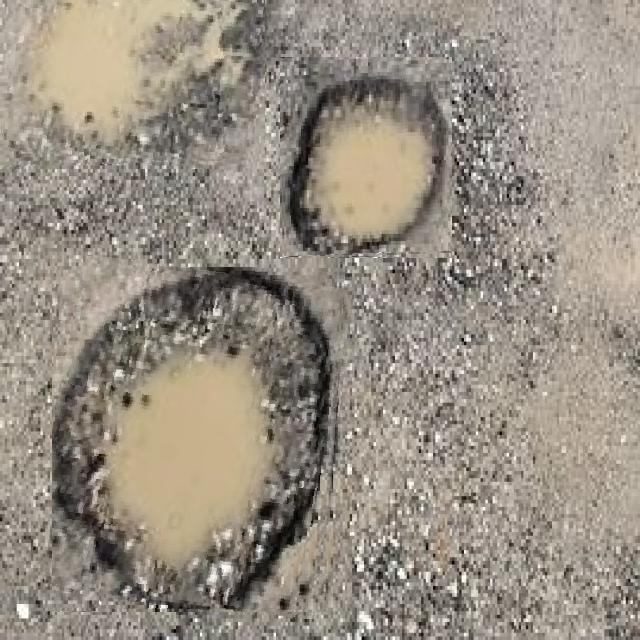Pothole: (52, 261, 345, 612), (0, 0, 265, 167), (280, 58, 452, 260)
